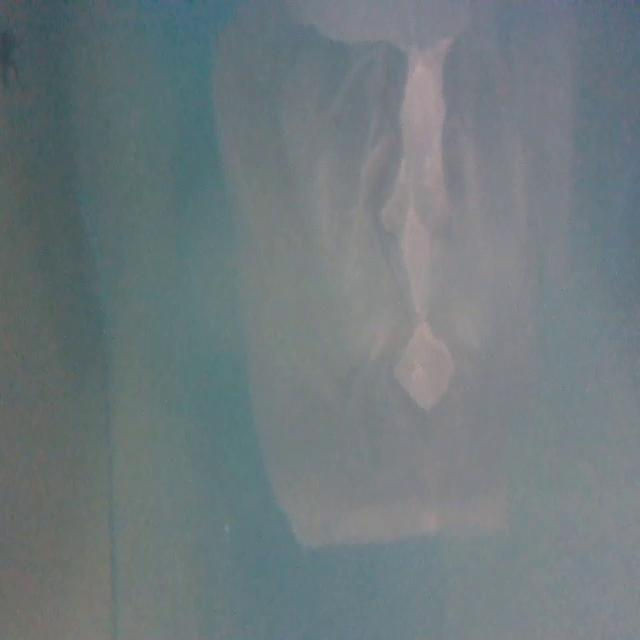plastic bags: (214, 3, 580, 559)
